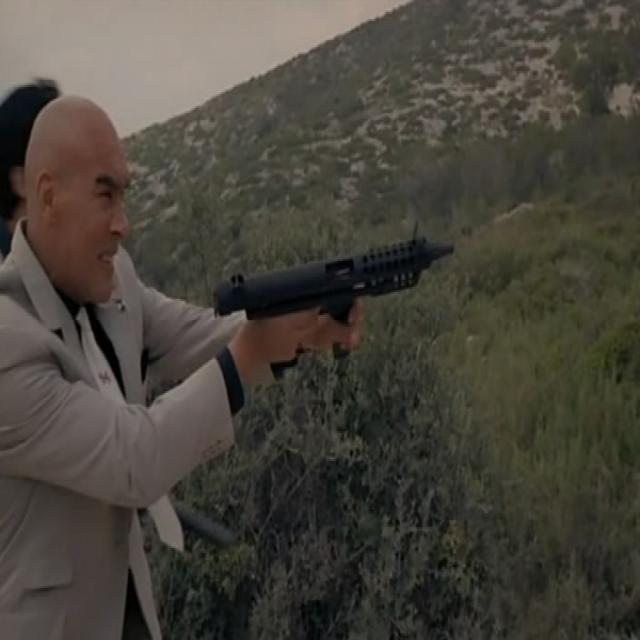rifle: (212, 228, 460, 386)
